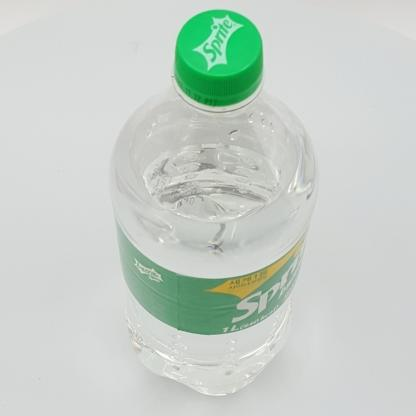--------1L: (109, 10, 318, 396)
